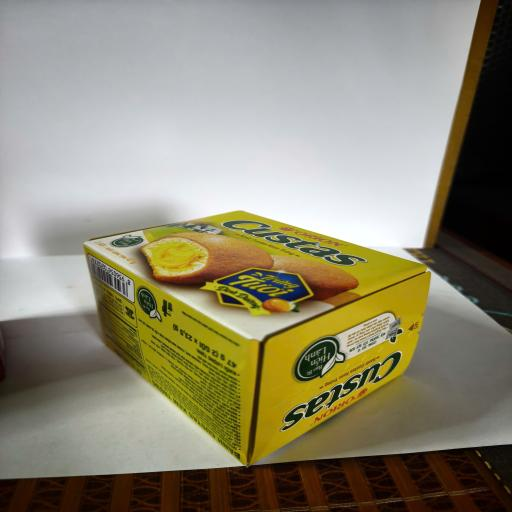custas: (83, 210, 431, 467)
